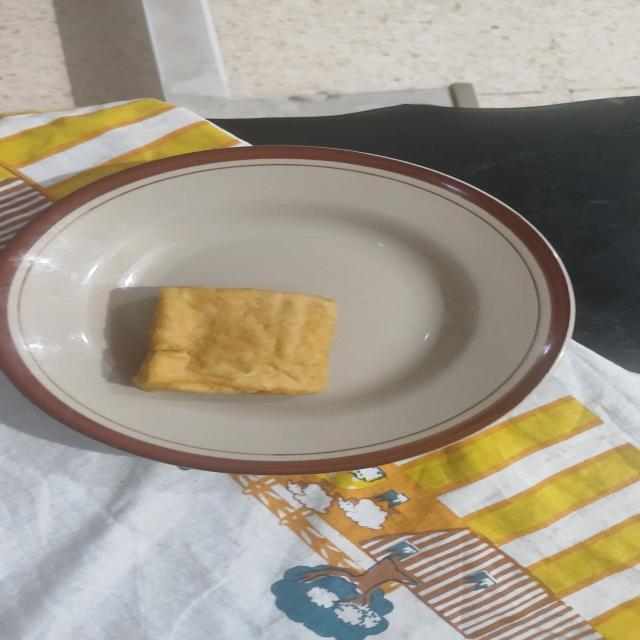tahu_goreng: (133, 287, 337, 395)
